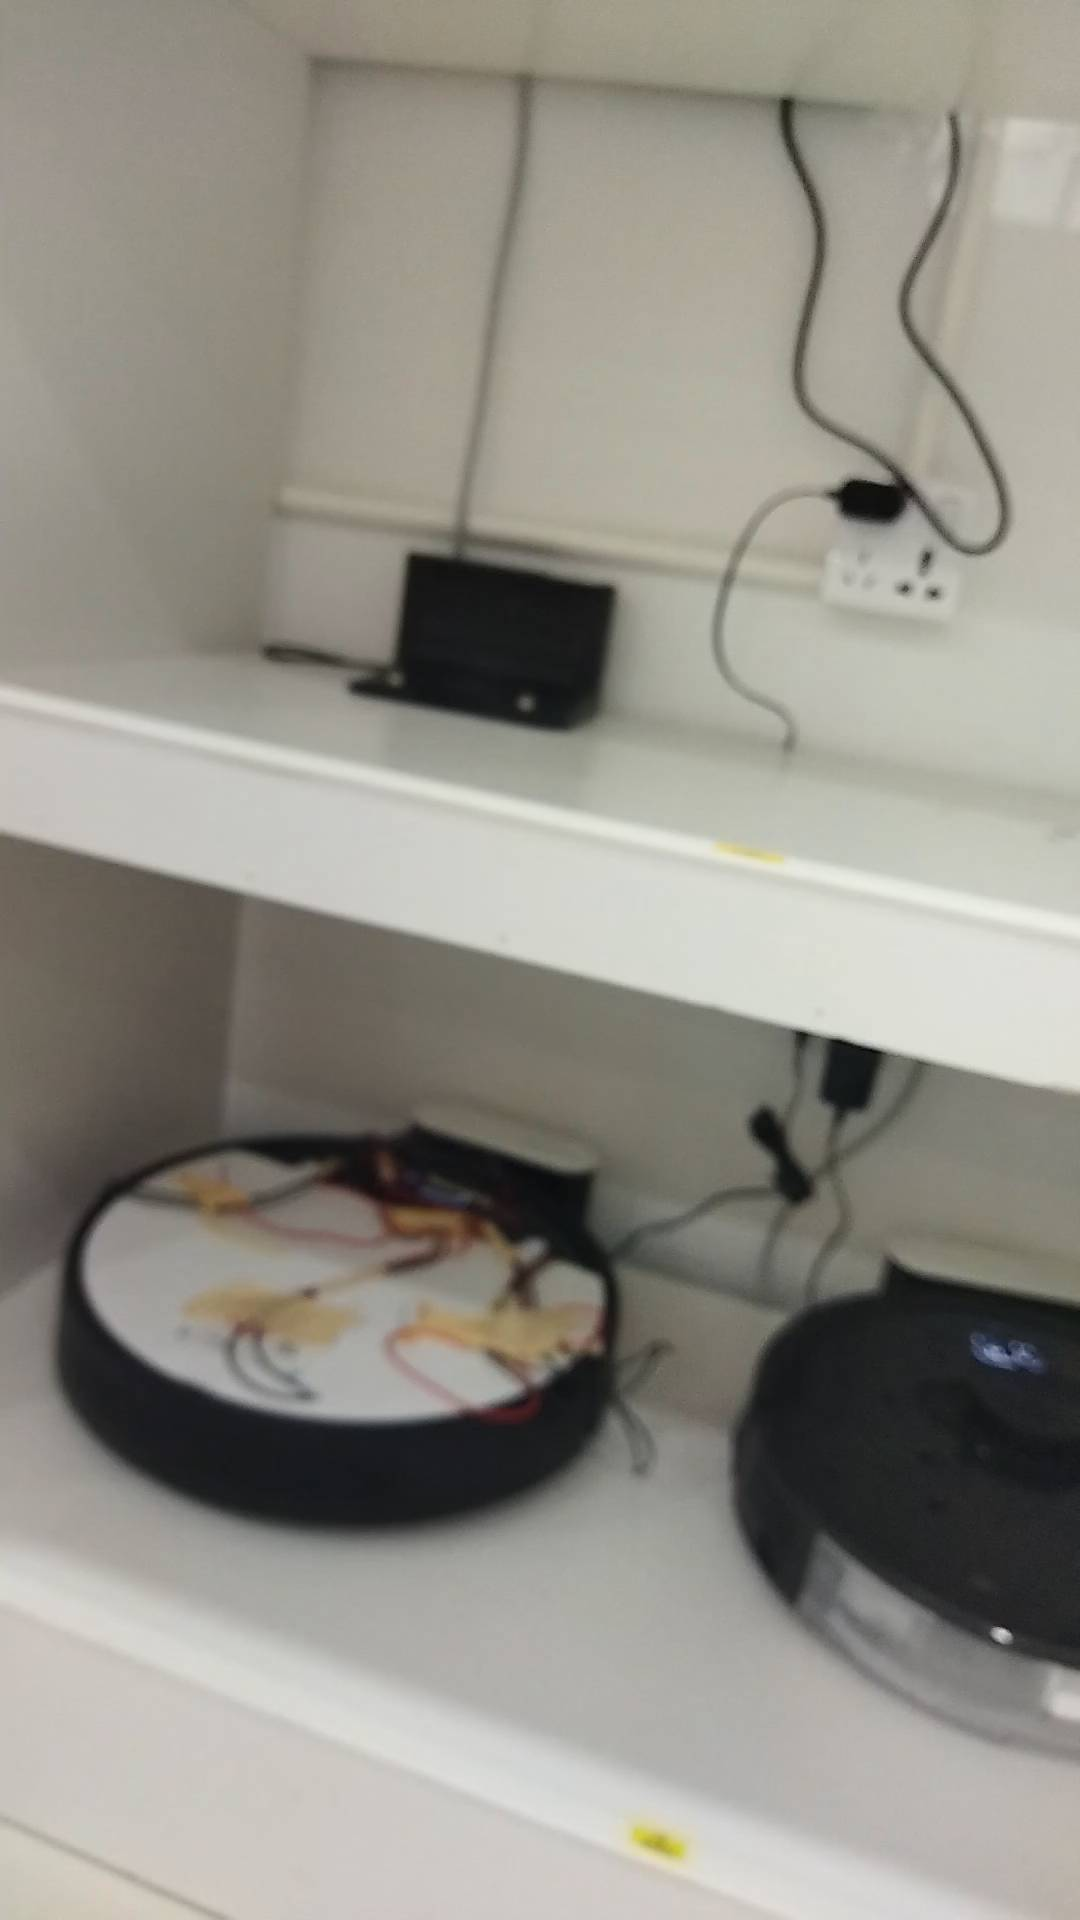recharge seat: (349, 550, 622, 735), (400, 1098, 611, 1232)
